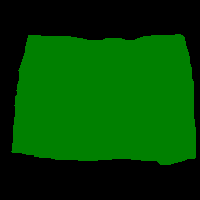mutande: (11, 34, 196, 165)
